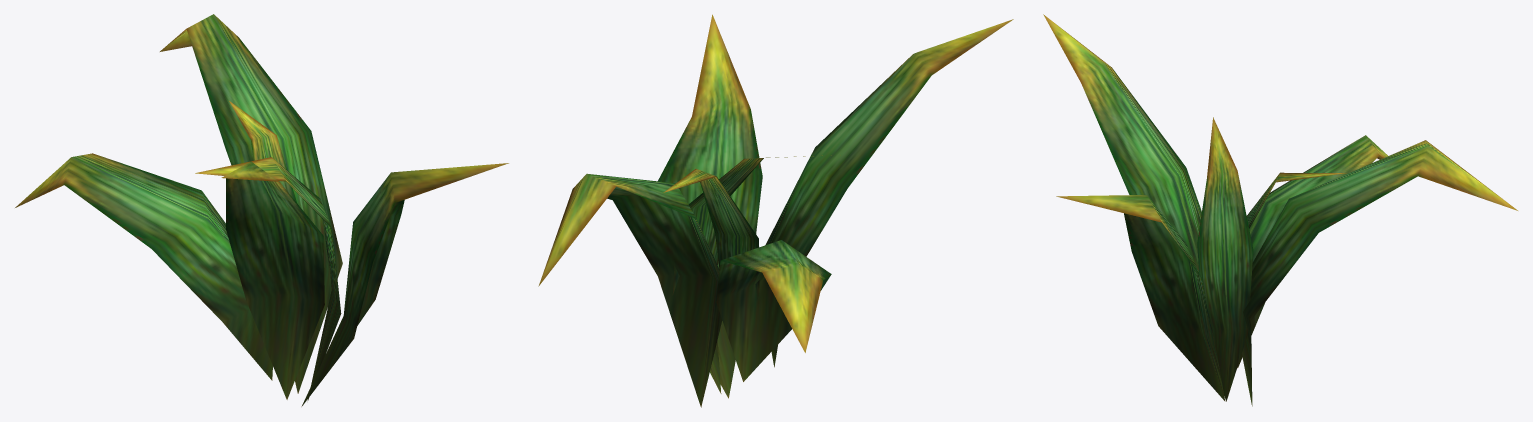
The model's file is n_SWGplant02.glb.
The picture shows the model from 3 angles, left to right: view 1: azimuth 30°, elevation 25°; view 2: azimuth 150°, elevation 25°; view 3: azimuth 270°, elevation 25°; orthographic projection. The views are drawn at different scales.
Parts seen in each view (by area): view 1: n_SWGplant02; view 2: n_SWGplant02; view 3: n_SWGplant02.
Part boxes in pixels (x1,y1,x2,y2): n_SWGplant02: [15, 14, 508, 406]; n_SWGplant02: [538, 14, 1013, 407]; n_SWGplant02: [1043, 14, 1517, 406].
Size of the model in its own units: 1.87 by 2.12 by 2.95.
1 material, 1 textured.
